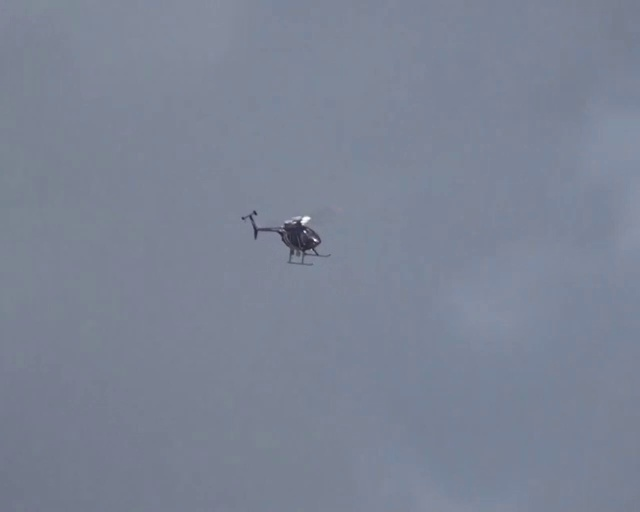HELICOPTER: (241, 209, 331, 265)
